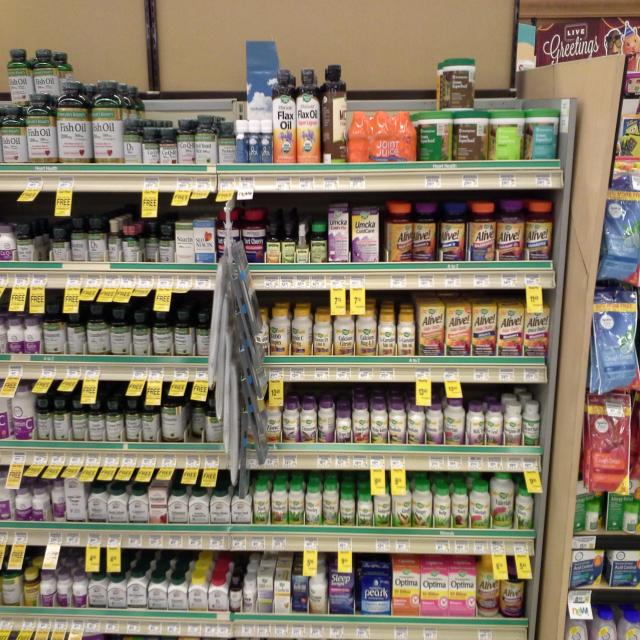unorganised: (139, 222, 159, 260), (185, 399, 204, 437), (51, 479, 66, 521), (258, 575, 273, 612)
